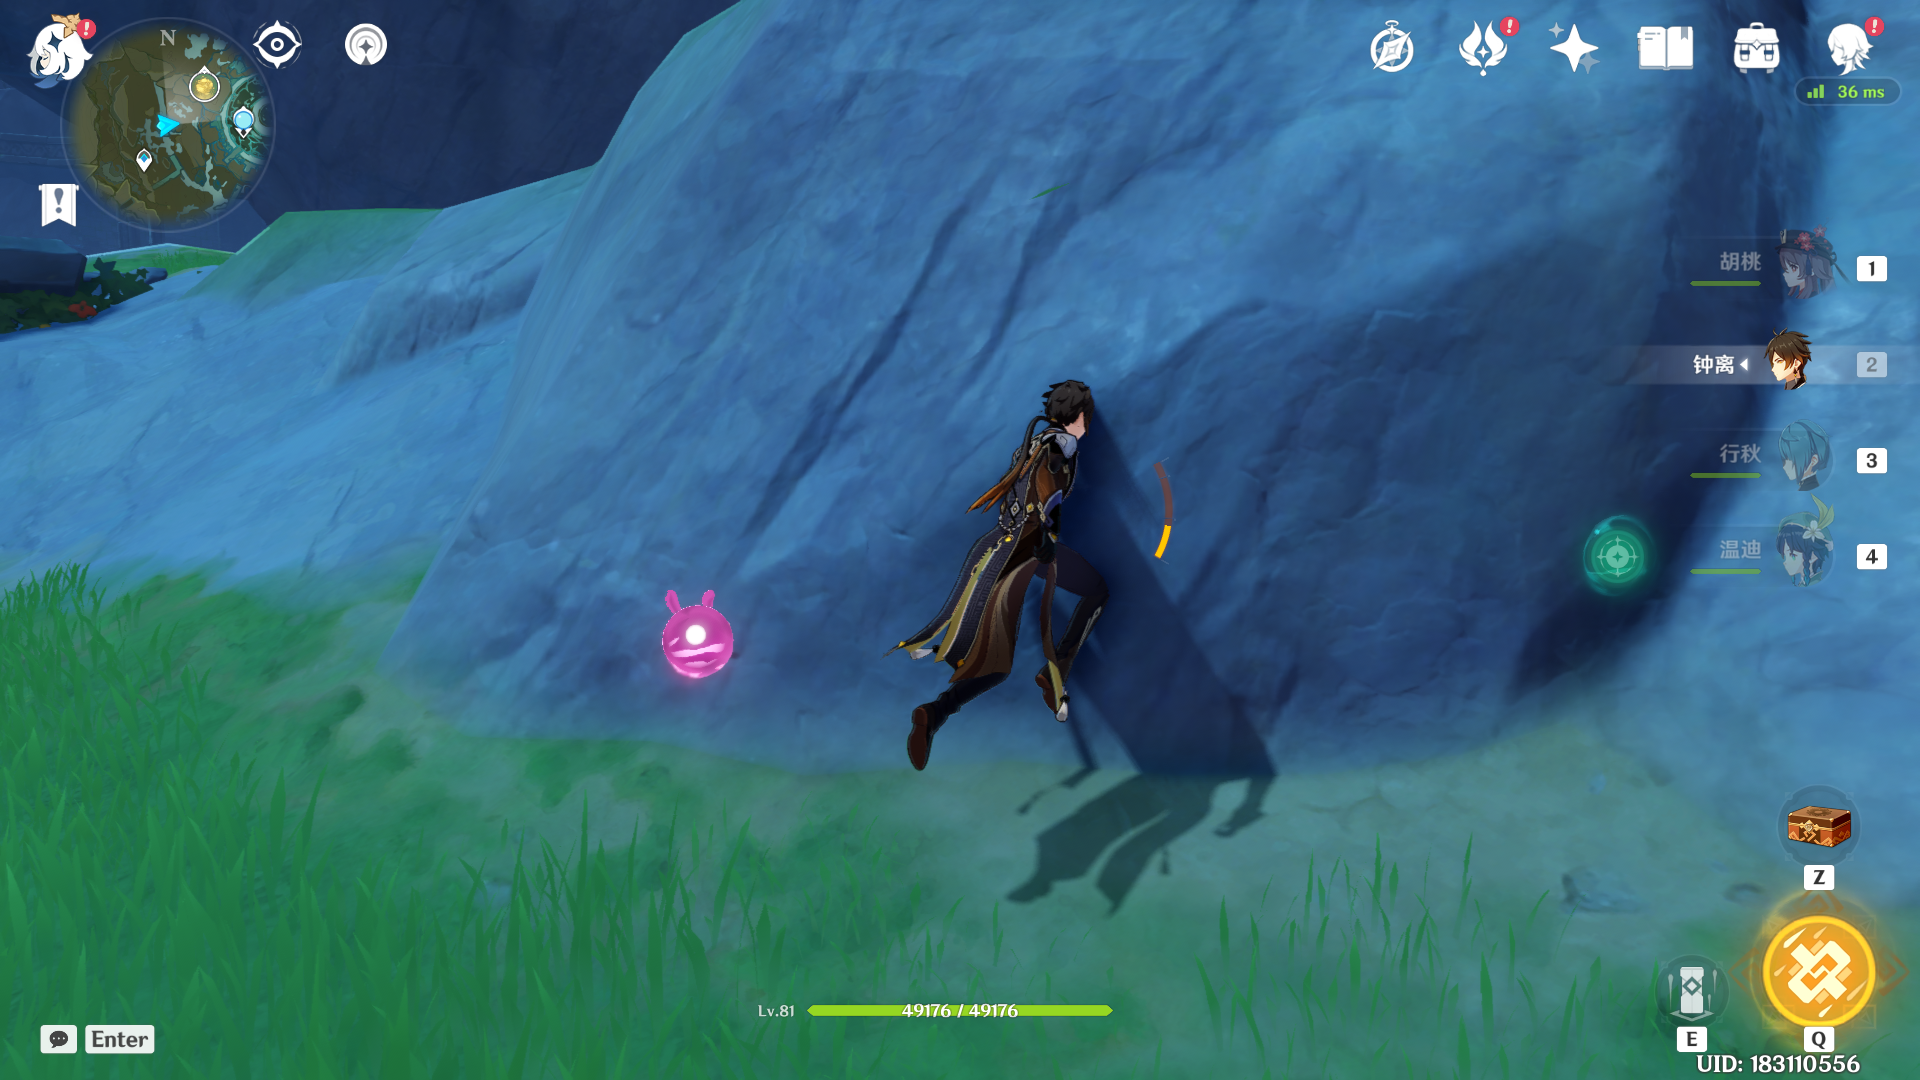character: (882, 367, 1147, 810)
